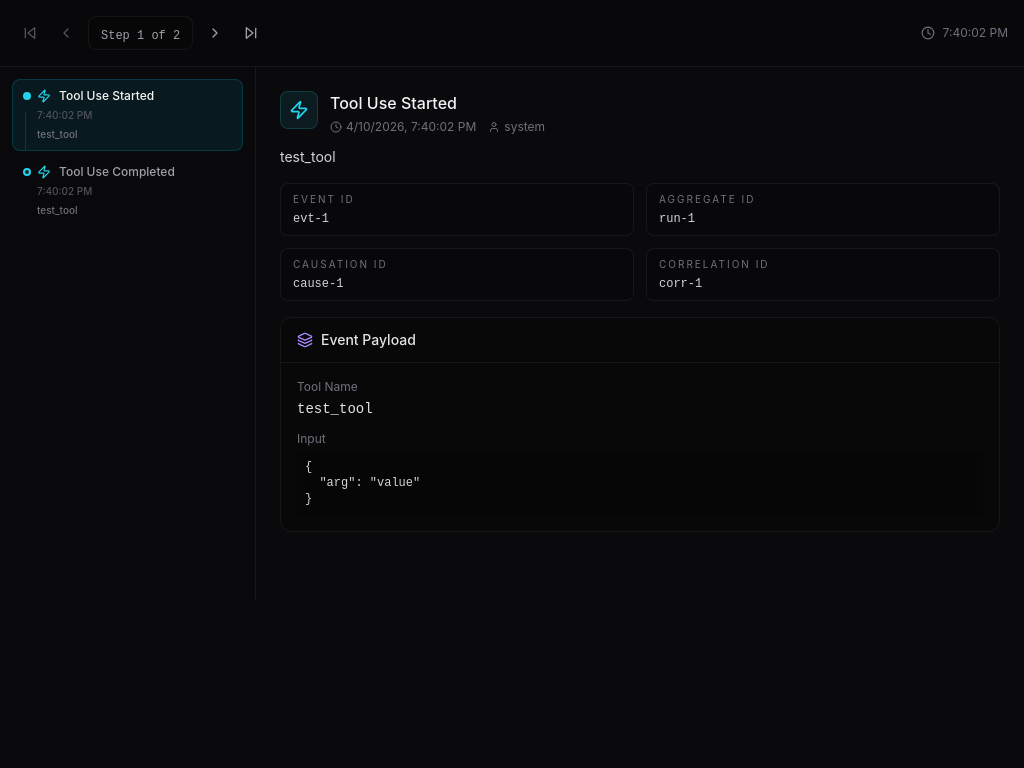
Test case: RunReplayPanel › navigates to previous step
Expected: the text "Step 1 of 2" is shown, [101, 29, 180, 43]
# Go to step 2
Step 1. Click the button titled "Next step" → (215, 33), box [201, 19, 229, 47]
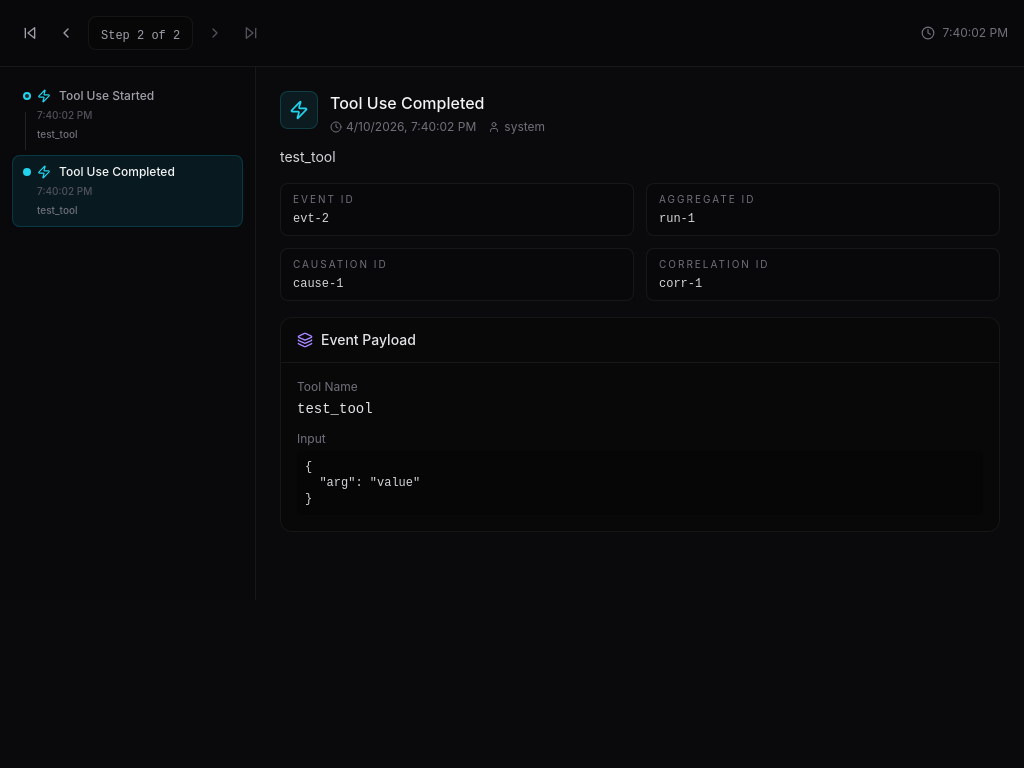
Expected: the text "Step 2 of 2" is shown, [101, 29, 180, 43]
# Go back to step 1
Step 2. Click the button titled "Previous step" → (66, 33), box [52, 19, 80, 47]
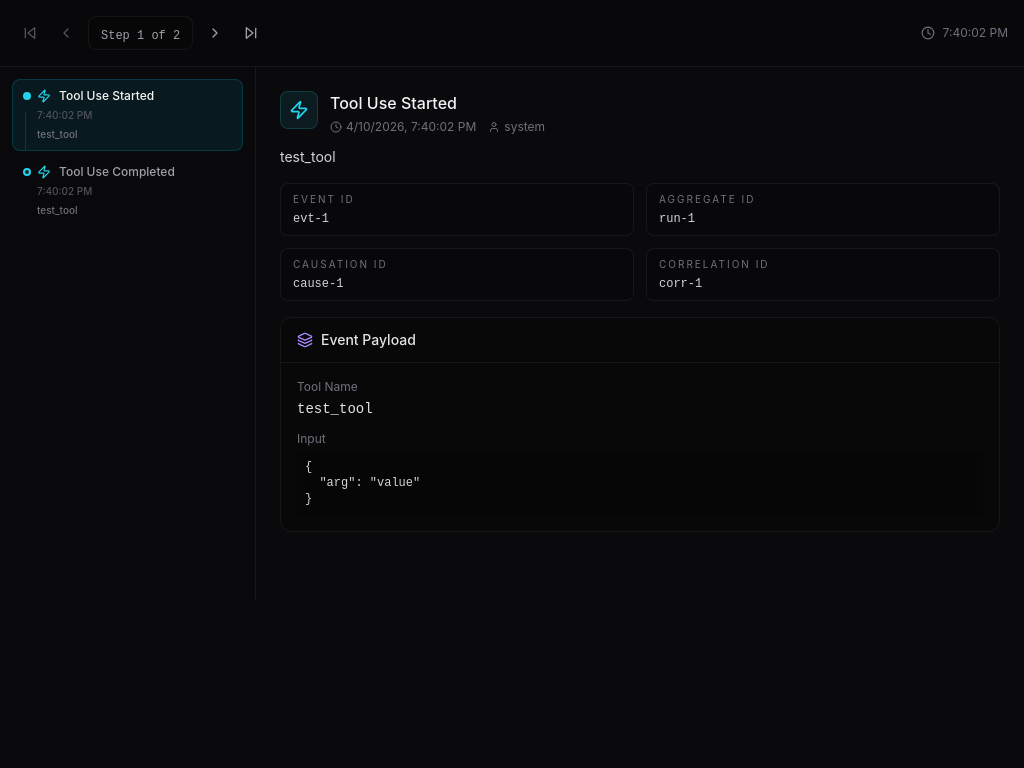
Expected: the text "Step 1 of 2" is shown, [101, 29, 180, 43]
